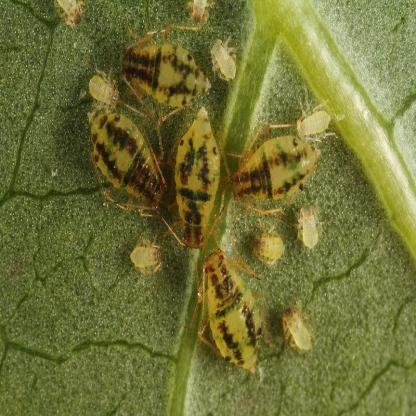aphid: (85, 104, 174, 224), (192, 257, 269, 380), (227, 119, 326, 214), (120, 26, 212, 122), (172, 104, 224, 248), (279, 300, 316, 364), (206, 25, 241, 84), (85, 64, 125, 112), (250, 223, 284, 274), (291, 97, 333, 138), (127, 236, 164, 278), (296, 199, 324, 250), (53, 0, 92, 29), (186, 1, 211, 22)
